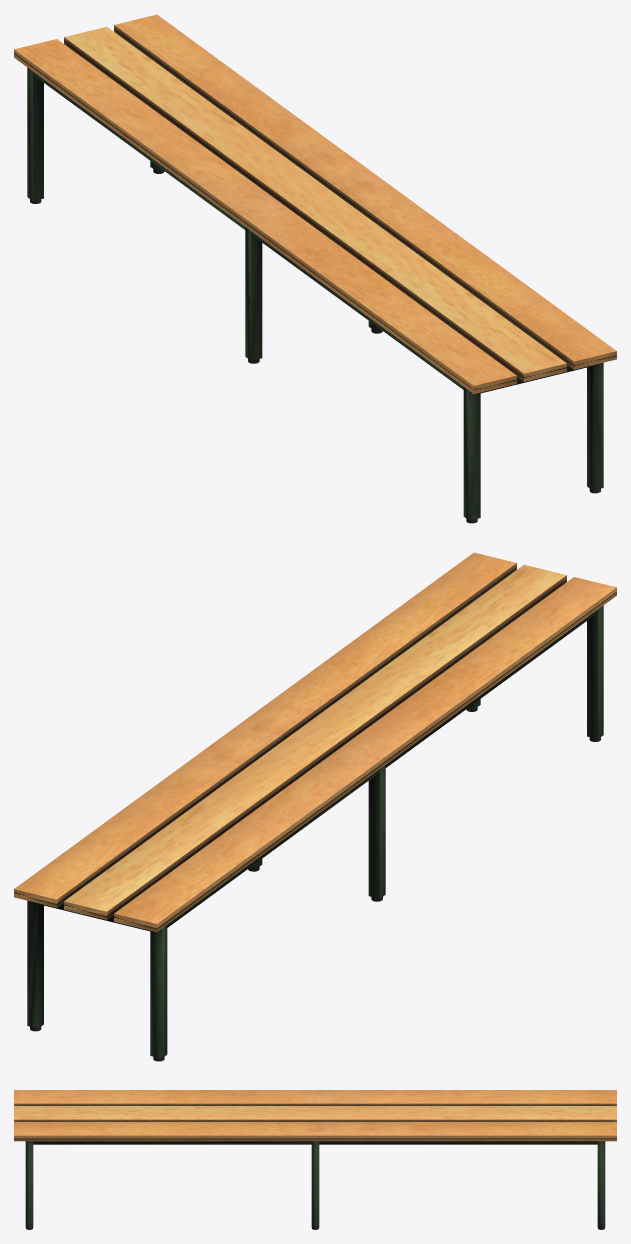
File: 2bench.glb
3 renders of one model, top to bottom at view 1: azimuth 30°, elevation 25°; view 2: azimuth 150°, elevation 25°; view 3: azimuth 270°, elevation 25°, orthographic. The views are drawn at different scales.
Parts seen in each view (by area): view 1: room; view 2: room; view 3: room.
Boxes of the visible parts, <box> form: room: <box>14,14,616,523</box>; room: <box>14,552,616,1061</box>; room: <box>14,1090,616,1229</box>.
Size of the model in its own units: 0.4195 by 0.4094 by 2.34.
1 material, 1 textured.
